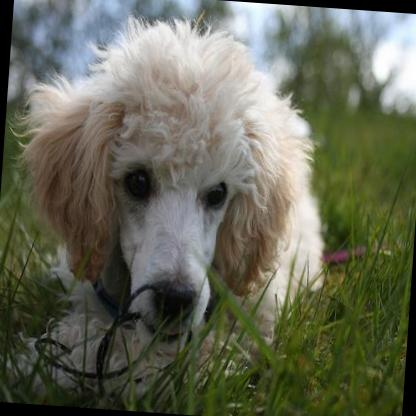miniature_poodle: (0, 0, 343, 415)
